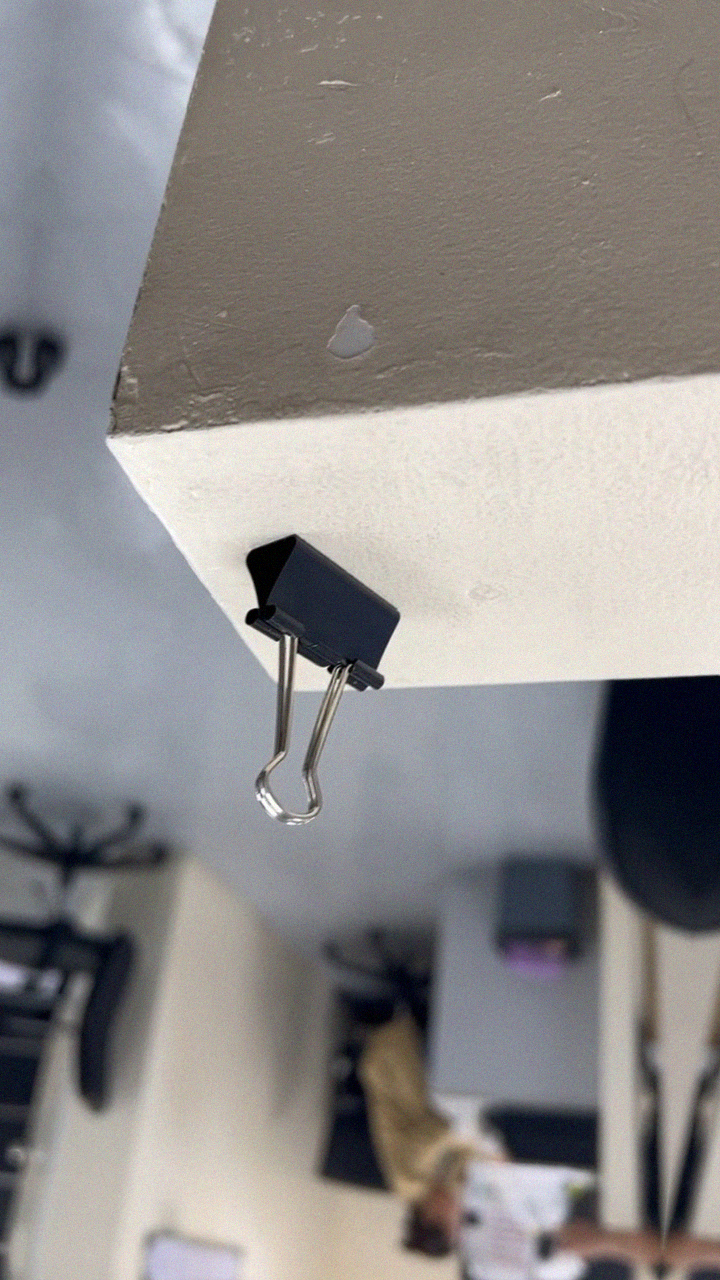kep_giay: (216, 525, 411, 837)
